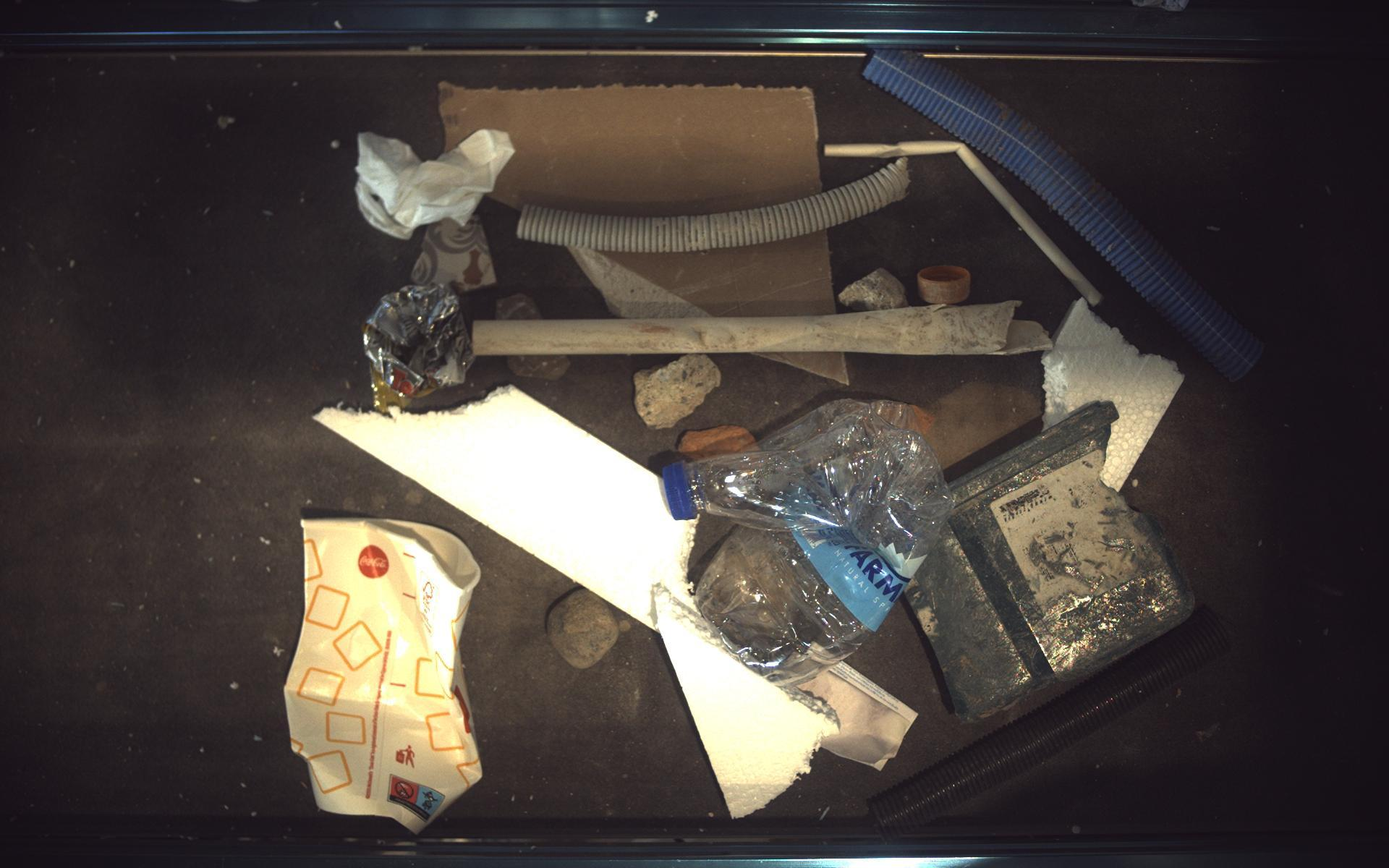brick: (679, 425, 757, 461), (870, 400, 937, 436)
concrete: (635, 354, 721, 429), (840, 268, 909, 311)
foam: (315, 386, 695, 629), (654, 586, 840, 819), (1044, 297, 1187, 490)
general_w: (665, 399, 953, 686), (284, 520, 482, 834), (825, 139, 1105, 305), (355, 128, 514, 239), (363, 284, 474, 413), (802, 663, 919, 771), (919, 265, 972, 305)
gypsum_board: (440, 82, 823, 215), (572, 231, 836, 318), (755, 352, 851, 385)
pipes: (865, 48, 1265, 380), (870, 606, 1233, 839), (517, 158, 912, 252), (472, 302, 1035, 355)
plastic: (909, 403, 1196, 720)
stone: (548, 589, 620, 670)
tile: (411, 214, 497, 292), (508, 355, 571, 380), (496, 293, 543, 320)
